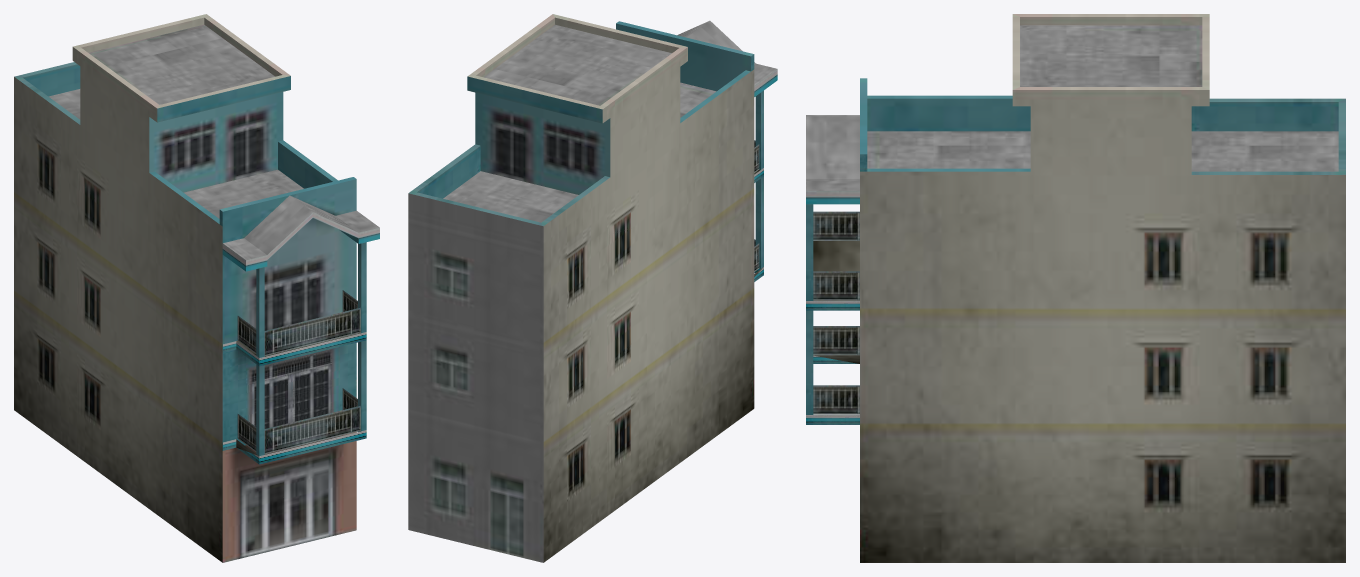
The picture shows the model from 3 angles, left to right: view 1: azimuth 30°, elevation 25°; view 2: azimuth 150°, elevation 25°; view 3: azimuth 270°, elevation 25°; orthographic projection. The views are drawn at different scales.
Parts seen in each view (by area): view 1: 5da683b2026f700c680453d0.001; view 2: 5da683b2026f700c680453d0.001; view 3: 5da683b2026f700c680453d0.001.
Boxes of the visible parts, x1,y1,x2,y2 form: 5da683b2026f700c680453d0.001: (14,14,379,562); 5da683b2026f700c680453d0.001: (408,14,777,562); 5da683b2026f700c680453d0.001: (806,14,1345,562).
Bounding box in the file's own units: 5 × 14.5 × 15.
1 material, 1 textured.
